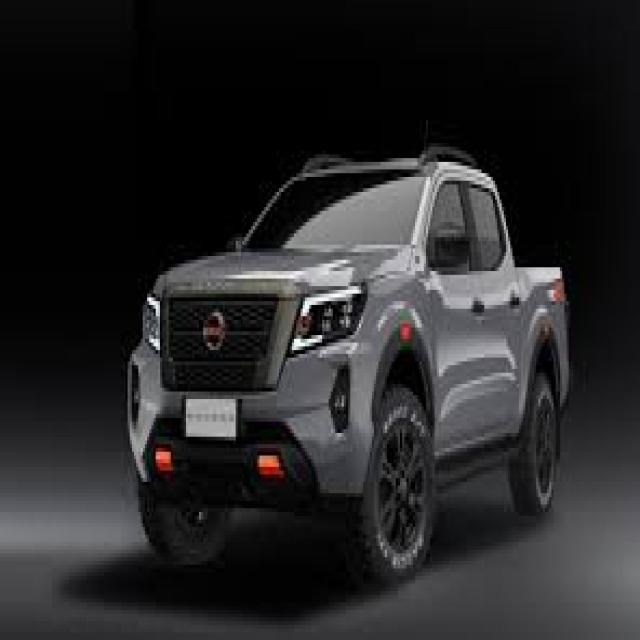Pickup Trucks: (128, 147, 573, 583)
